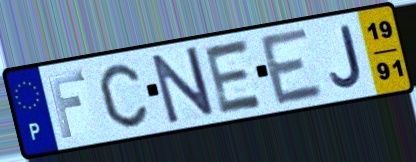C: (96, 61, 151, 130)
E: (257, 24, 327, 108), (201, 36, 266, 117)
F: (44, 68, 88, 141)
J: (327, 22, 365, 91)
N: (148, 44, 218, 127)
